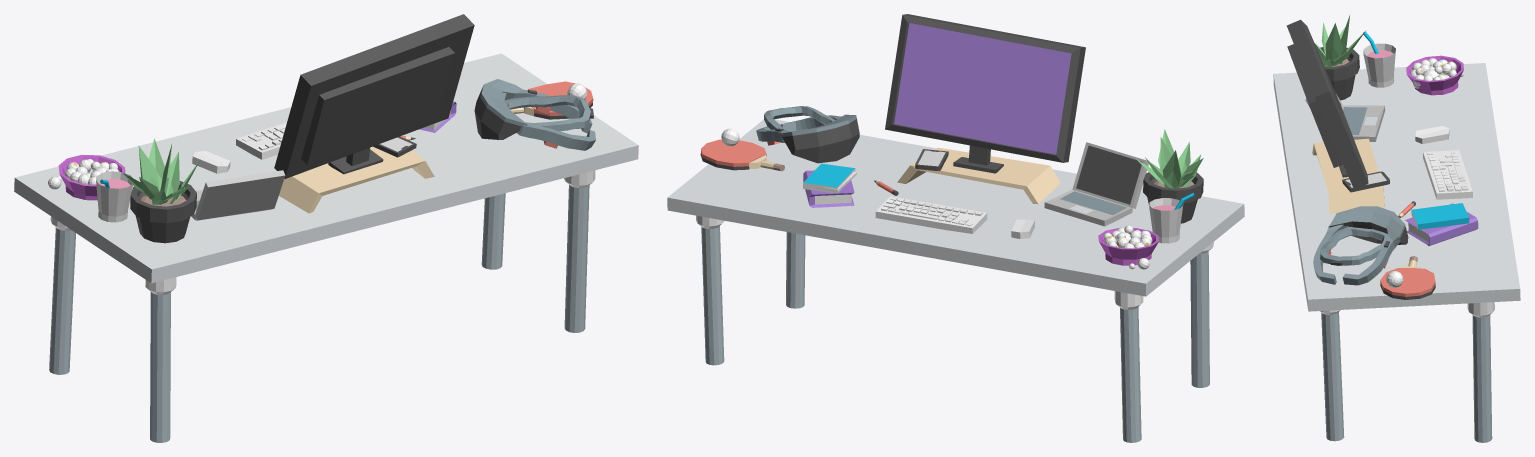
File: room.glb
3 views of the same model, side by side, from view 1: azimuth 30°, elevation 25°; view 2: azimuth 150°, elevation 25°; view 3: azimuth 270°, elevation 25° (orthographic). The views are drawn at different scales.
Parts seen in each view (by area): view 1: mesh_100113445_material_15___8305_0, mesh_1774626027_material_23___8305_0, mesh_1055126364_material_23___8305_0, mesh_408865383_material_18___8305_0, mesh_1943791313_material_16___8305_0, mesh_1037838151_material_16___8305_0, mesh_293275739_material_22___8305_0, mesh_407606591_material_16___8305_0, mesh_1743466909_material_23___8305_0, mesh_1097280345_material_16___8305_0, mesh_435122157_material_24___8305_0, mesh_2039674011_material_17___8305_0 (+8 smaller); view 2: mesh_100113445_material_15___8305_0, mesh_1055126364_material_2___8305_0, mesh_1055126364_material_23___8305_0, mesh_408865383_material_18___8305_0, mesh_1097280345_material_16___8305_0, mesh_293275739_material_23___8305_0, mesh_407606591_material_16___8305_0, mesh_1943791313_material_16___8305_0, mesh_1231279623_material_23___8305_0, mesh_321093295_material_21___8305_0, mesh_1037838151_material_16___8305_0, mesh_1254097530_material_8___8305_0 (+8 smaller); view 3: mesh_100113445_material_15___8305_0, mesh_1055126364_material_23___8305_0, mesh_408865383_material_18___8305_0, mesh_1037838151_material_16___8305_0, mesh_1097280345_material_16___8305_0, mesh_1774626027_material_23___8305_0, mesh_1231279623_material_17___8305_0, mesh_1254097530_material_8___8305_0, mesh_719874981_material_5___8305_0, mesh_321093295_material_21___8305_0, mesh_435122157_material_24___8305_0, mesh_2007323193_material_1___8305_0 (+13 smaller).
Boxes of the visible parts, x1,y1,x2,y2 form: mesh_100113445_material_15___8305_0: [14, 53, 638, 283]; mesh_1774626027_material_23___8305_0: [301, 47, 454, 164]; mesh_1055126364_material_23___8305_0: [274, 14, 474, 178]; mesh_408865383_material_18___8305_0: [279, 146, 434, 213]; mesh_1943791313_material_16___8305_0: [150, 292, 170, 442]; mesh_1037838151_material_16___8305_0: [564, 185, 589, 332]; mesh_293275739_material_22___8305_0: [195, 170, 285, 220]; mesh_407606591_material_16___8305_0: [49, 227, 75, 374]; mesh_1743466909_material_23___8305_0: [130, 181, 196, 243]; mesh_1097280345_material_16___8305_0: [481, 193, 505, 269]; mesh_435122157_material_24___8305_0: [96, 171, 132, 222]; mesh_2039674011_material_17___8305_0: [516, 123, 595, 150]; mesh_100113445_material_15___8305_0: [667, 119, 1244, 296]; mesh_1055126364_material_2___8305_0: [894, 23, 1071, 154]; mesh_1055126364_material_23___8305_0: [885, 14, 1085, 162]; mesh_408865383_material_18___8305_0: [897, 147, 1060, 204]; mesh_1097280345_material_16___8305_0: [701, 226, 724, 365]; mesh_293275739_material_23___8305_0: [1076, 145, 1142, 204]; mesh_407606591_material_16___8305_0: [1120, 307, 1141, 442]; mesh_1943791313_material_16___8305_0: [1190, 251, 1209, 387]; mesh_1231279623_material_23___8305_0: [782, 119, 859, 163]; mesh_321093295_material_21___8305_0: [875, 196, 987, 233]; mesh_1037838151_material_16___8305_0: [786, 232, 805, 308]; mesh_1254097530_material_8___8305_0: [701, 139, 766, 166]; mesh_100113445_material_15___8305_0: [1273, 63, 1520, 311]; mesh_1055126364_material_23___8305_0: [1286, 19, 1368, 189]; mesh_408865383_material_18___8305_0: [1312, 138, 1384, 213]; mesh_1037838151_material_16___8305_0: [1321, 312, 1344, 441]; mesh_1097280345_material_16___8305_0: [1472, 315, 1492, 442]; mesh_1774626027_material_23___8305_0: [1287, 44, 1343, 167]; mesh_1231279623_material_17___8305_0: [1329, 206, 1405, 239]; mesh_1254097530_material_8___8305_0: [1380, 268, 1435, 296]; mesh_719874981_material_5___8305_0: [1411, 203, 1469, 229]; mesh_321093295_material_21___8305_0: [1423, 150, 1472, 199]; mesh_435122157_material_24___8305_0: [1363, 43, 1395, 87]; mesh_2007323193_material_1___8305_0: [1406, 55, 1463, 95].
Bounding box in the file's own units: 2.28 × 1.42 × 1.06.
